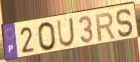2: (19, 26, 37, 55)
3: (77, 15, 94, 46)
O: (36, 21, 58, 52)
R: (95, 11, 117, 43)
S: (116, 7, 136, 38)
U: (56, 16, 76, 48)
